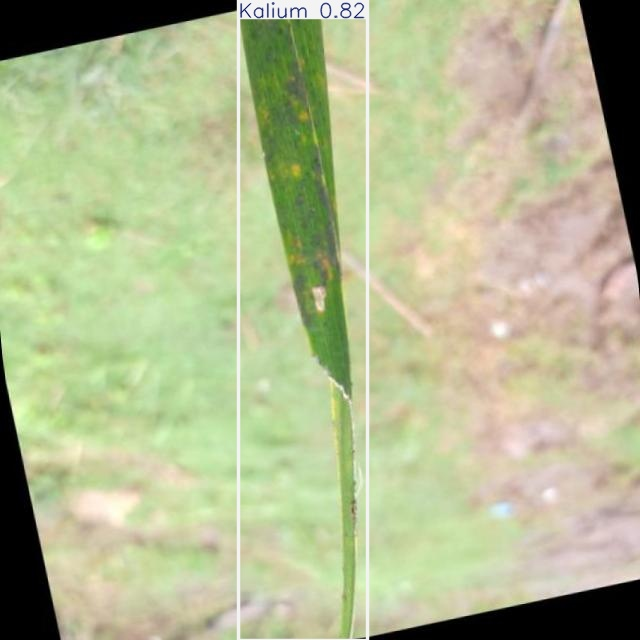Kalium: (238, 0, 367, 640)
